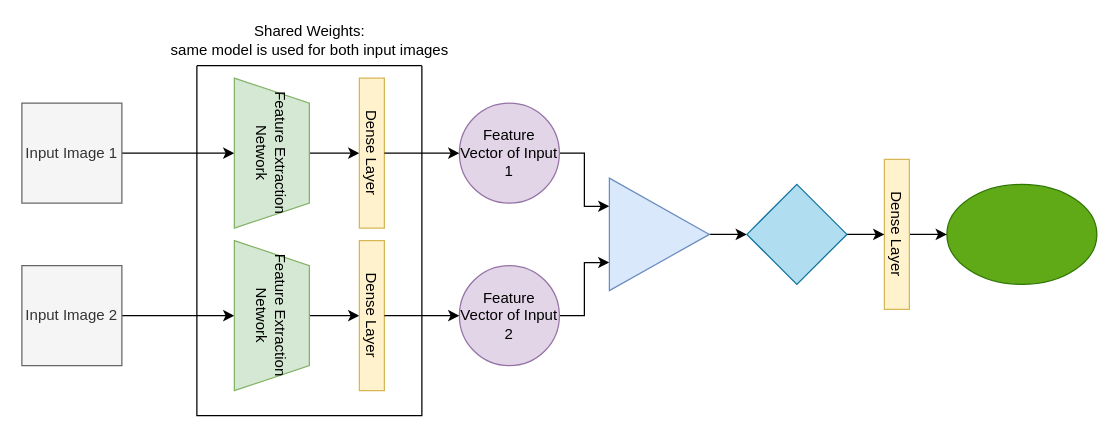
Image size: 1119x438. Some labels were removed from this diagram. The centre of each missing label's shape, as x and y in pixels:
"Distance between vectors" belongs at [796,233].
"Distance Function" belongs at [658,234].
"Similarity Decision" belongs at [1021,233].
